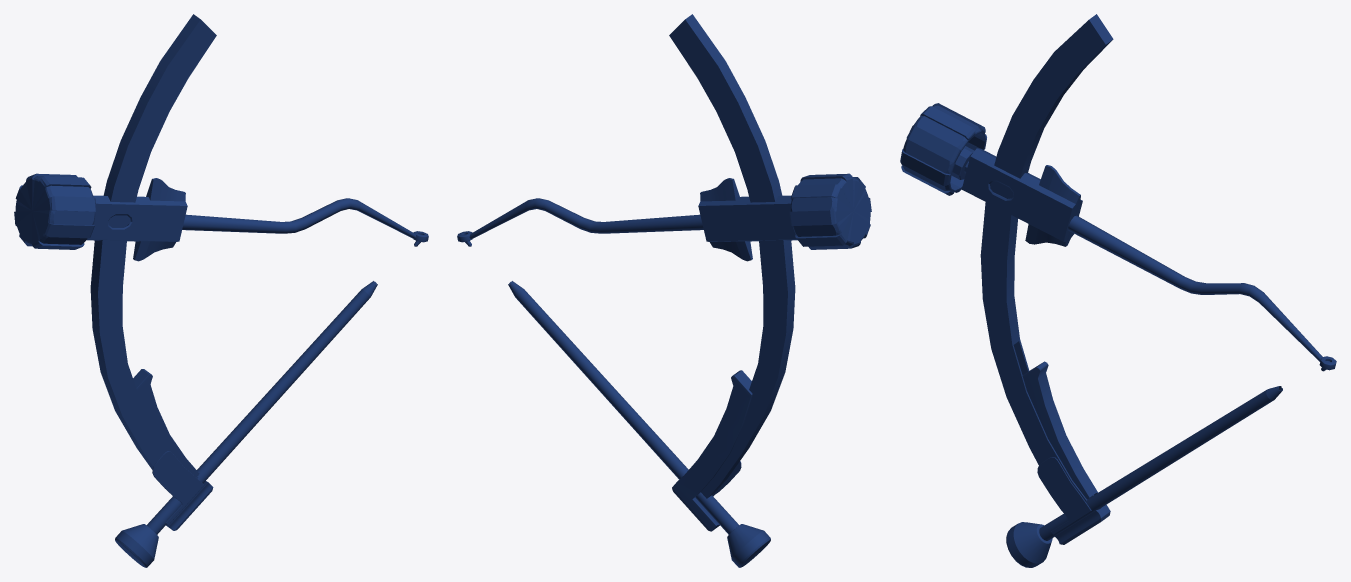
The model's file is Tools_ACLGuideTool_01.fbx.
3 views of the same model, side by side, from view 1: azimuth 30°, elevation 25°; view 2: azimuth 150°, elevation 25°; view 3: azimuth 330°, elevation 25° (orthographic). The views are drawn at different scales.
Parts seen in each view (by area): view 1: Tools_ACLGuideTool_01:polySurface3, Tools_ACLGuideTool_01:polySurface5, Tools_ACLGuideTool_01:Tools_ACLGuideTool_01:polySurface8, Tools_ACLGuideTool_01:polySurface2; view 2: Tools_ACLGuideTool_01:polySurface3, Tools_ACLGuideTool_01:polySurface5, Tools_ACLGuideTool_01:Tools_ACLGuideTool_01:polySurface8, Tools_ACLGuideTool_01:polySurface2; view 3: Tools_ACLGuideTool_01:polySurface3, Tools_ACLGuideTool_01:polySurface5, Tools_ACLGuideTool_01:Tools_ACLGuideTool_01:polySurface8, Tools_ACLGuideTool_01:polySurface2.
Boxes of the visible parts, <box> form: Tools_ACLGuideTool_01:polySurface3: <box>90,14,216,530</box>; Tools_ACLGuideTool_01:polySurface5: <box>86,178,428,261</box>; Tools_ACLGuideTool_01:Tools_ACLGuideTool_01:polySurface8: <box>14,173,96,249</box>; Tools_ACLGuideTool_01:polySurface2: <box>115,281,377,567</box>; Tools_ACLGuideTool_01:polySurface3: <box>669,14,795,531</box>; Tools_ACLGuideTool_01:polySurface5: <box>457,178,797,261</box>; Tools_ACLGuideTool_01:Tools_ACLGuideTool_01:polySurface8: <box>789,173,871,249</box>; Tools_ACLGuideTool_01:polySurface2: <box>508,281,770,567</box>; Tools_ACLGuideTool_01:polySurface3: <box>980,14,1113,544</box>; Tools_ACLGuideTool_01:polySurface5: <box>961,148,1336,371</box>; Tools_ACLGuideTool_01:Tools_ACLGuideTool_01:polySurface8: <box>900,103,986,195</box>; Tools_ACLGuideTool_01:polySurface2: <box>1006,386,1282,567</box>.
Bounding box in the file's own units: 15.43 × 19.6 × 2.47.
